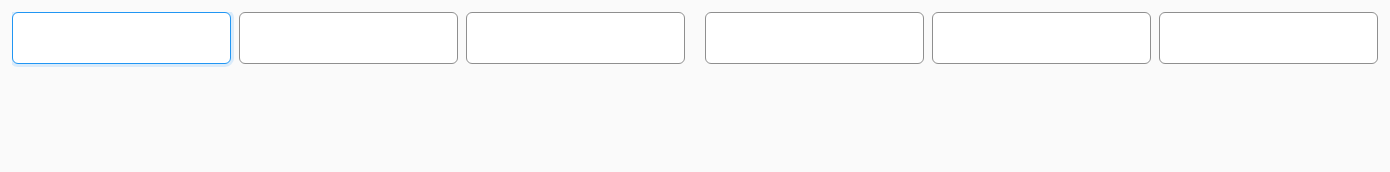
Test: OtpInput › spreads an autofilled code typed into the first box
Type "654321" into the field named "Digit 1 of 6" at (122, 38), box [12, 12, 231, 64]
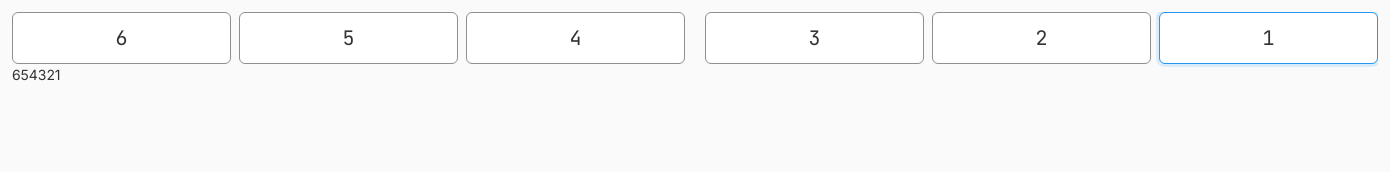
expect the text with test id "v" reads "654321": met, box [12, 66, 60, 83]
